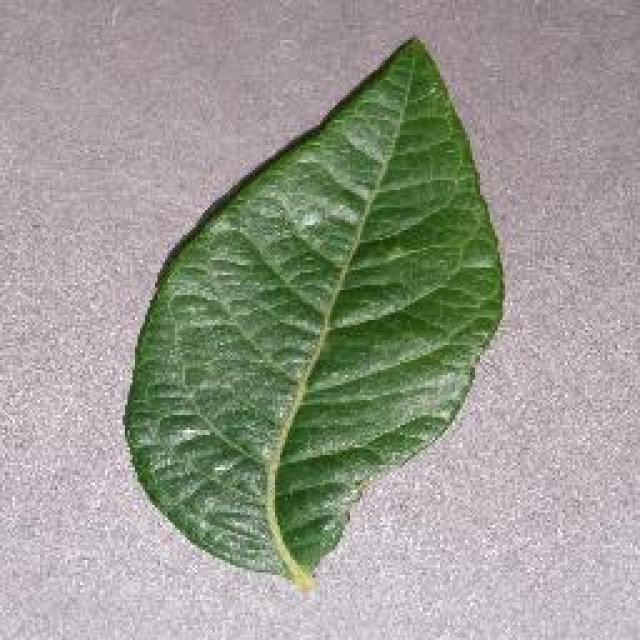Blu_healthy: (152, 160, 488, 500)
